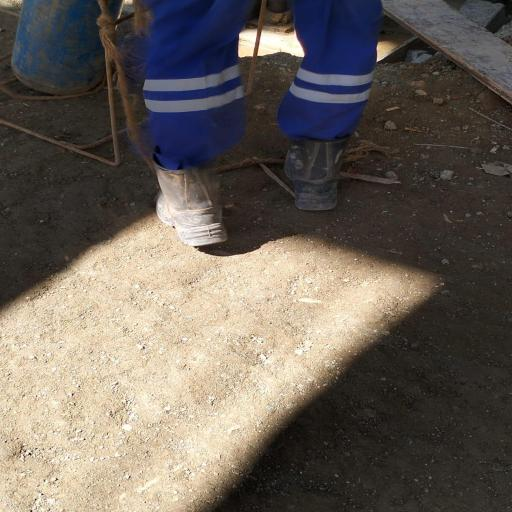safety_shoe: (132, 156, 240, 249), (267, 126, 356, 212)
